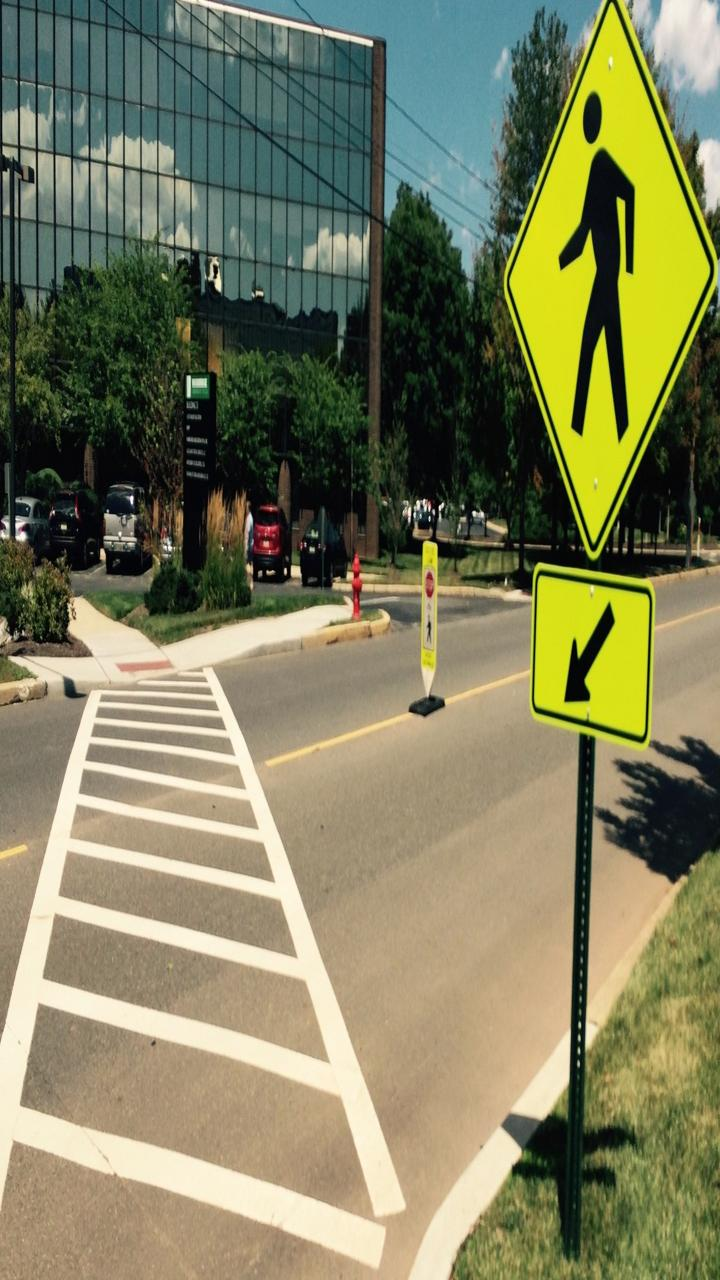Traffic sign: (507, 1, 720, 549), (528, 559, 652, 744)
vehicle: (90, 474, 166, 579), (243, 500, 304, 585)
